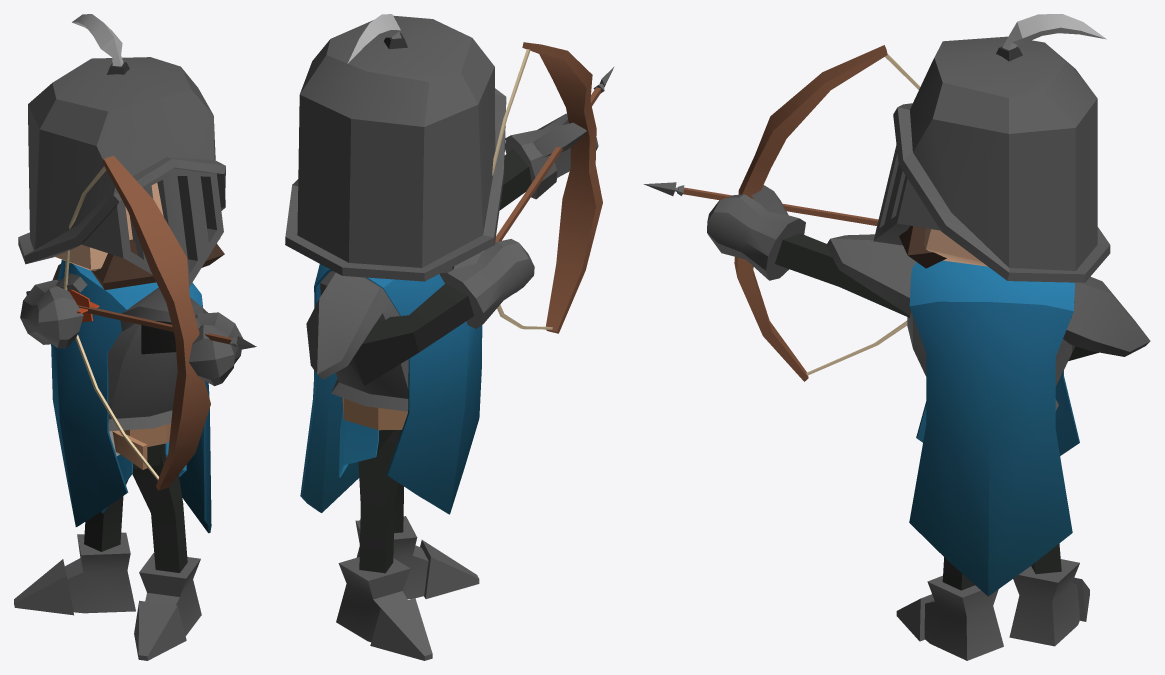
Rendered from Warrior_7.fbx.
3 renders of one model, left to right at view 1: azimuth 30°, elevation 25°; view 2: azimuth 150°, elevation 25°; view 3: azimuth 270°, elevation 25°, orthographic. The views are drawn at different scales.
Visible parts, largest first — view 1: Warrior_7; view 2: Warrior_7; view 3: Warrior_7.
Boxes of the visible parts, x1,y1,x2,y2 form: Warrior_7: (14,14,256,660); Warrior_7: (285,14,614,660); Warrior_7: (643,14,1150,660).
Size of the model in its own units: 48.44 by 132 by 98.68.
